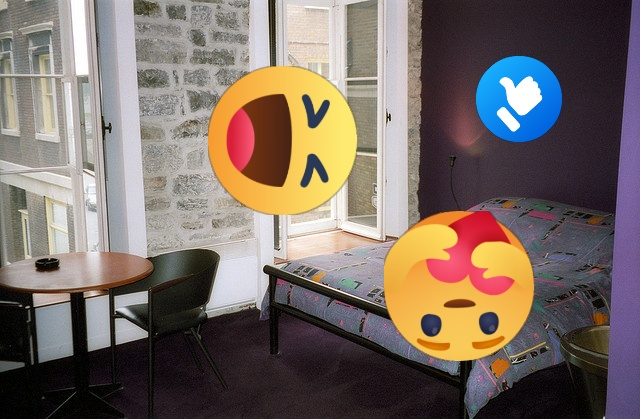care: (384, 211, 534, 361)
haha: (208, 66, 357, 215)
like: (476, 56, 562, 142)
